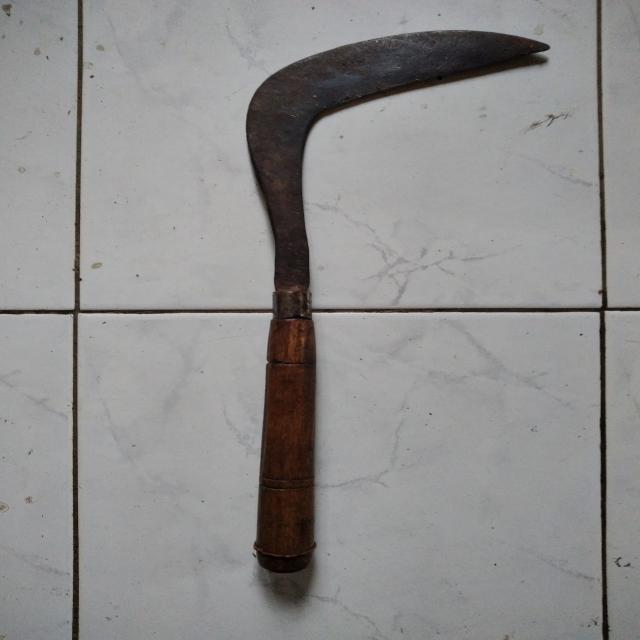Celurit: (243, 29, 557, 575)
